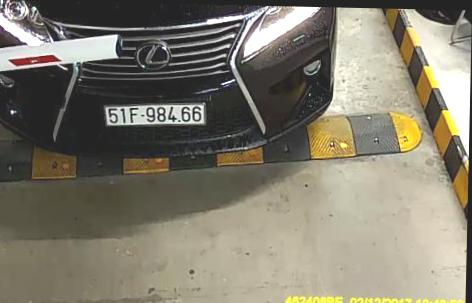License_Plate: (97, 100, 218, 135)
